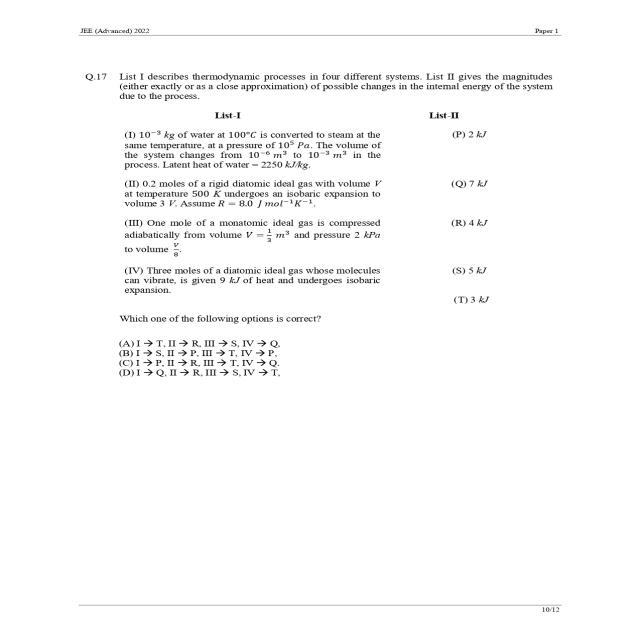Answer_Block: (75, 332, 588, 393)
Question_Answer_Block: (77, 69, 586, 390)
Question_Block: (76, 68, 590, 330)
Question_Paper_Area: (69, 64, 588, 425)
